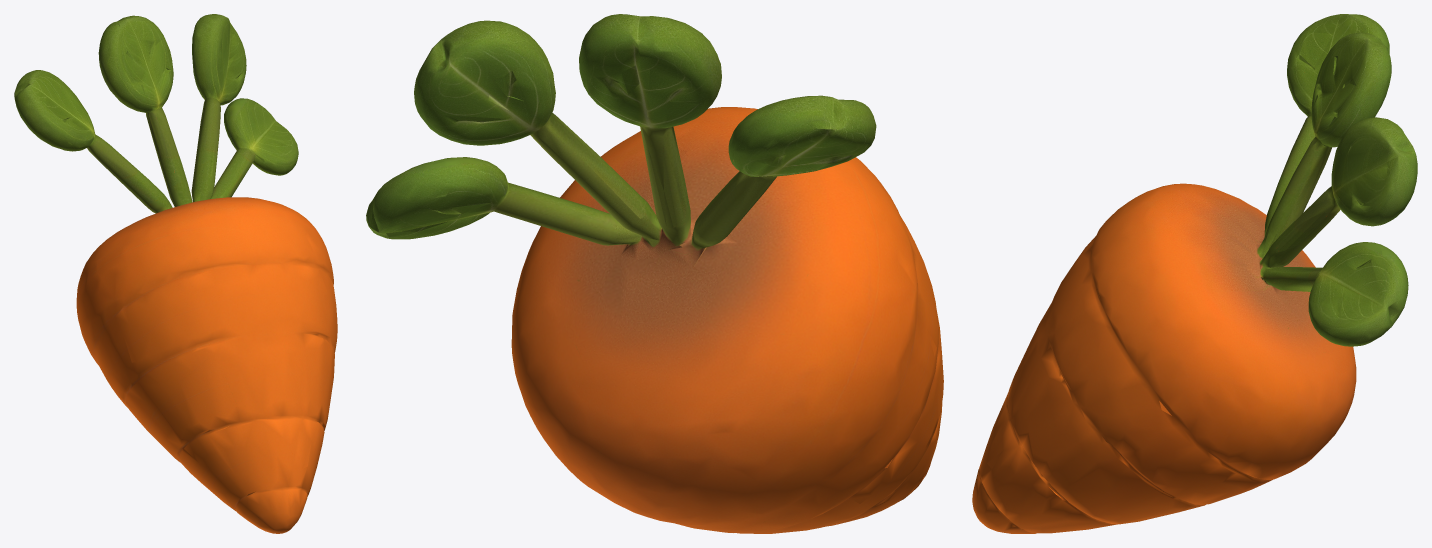
The model's file is carrot.fbx.
The picture shows the model from 3 angles, left to right: view 1: azimuth 30°, elevation 25°; view 2: azimuth 150°, elevation 25°; view 3: azimuth 270°, elevation 25°; orthographic projection. The views are drawn at different scales.
Parts seen in each view (by area): view 1: Mesh_0; view 2: Mesh_0; view 3: Mesh_0.
Boxes of the visible parts, x1,y1,x2,y2 form: Mesh_0: [14, 14, 337, 533]; Mesh_0: [366, 14, 943, 533]; Mesh_0: [972, 14, 1417, 533].
Bounding box in the file's own units: 142 × 190 × 156.
Materials: 1 (1 with a texture image).
